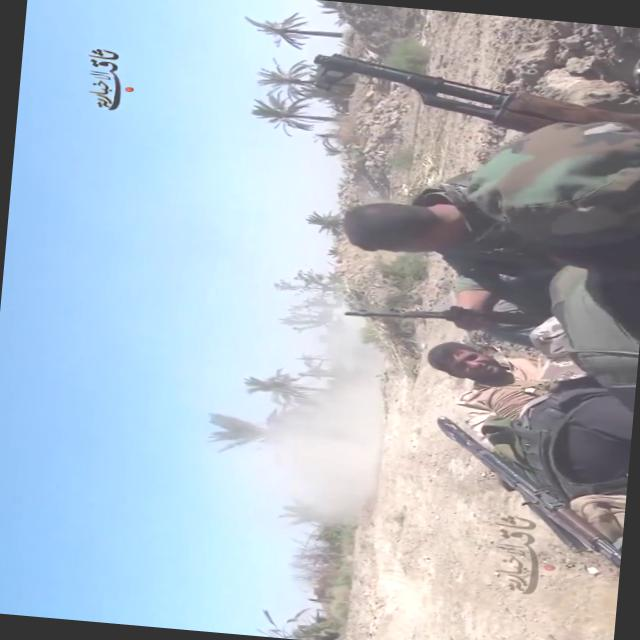long weapon: (301, 35, 639, 160), (418, 414, 630, 578), (322, 288, 602, 348)
